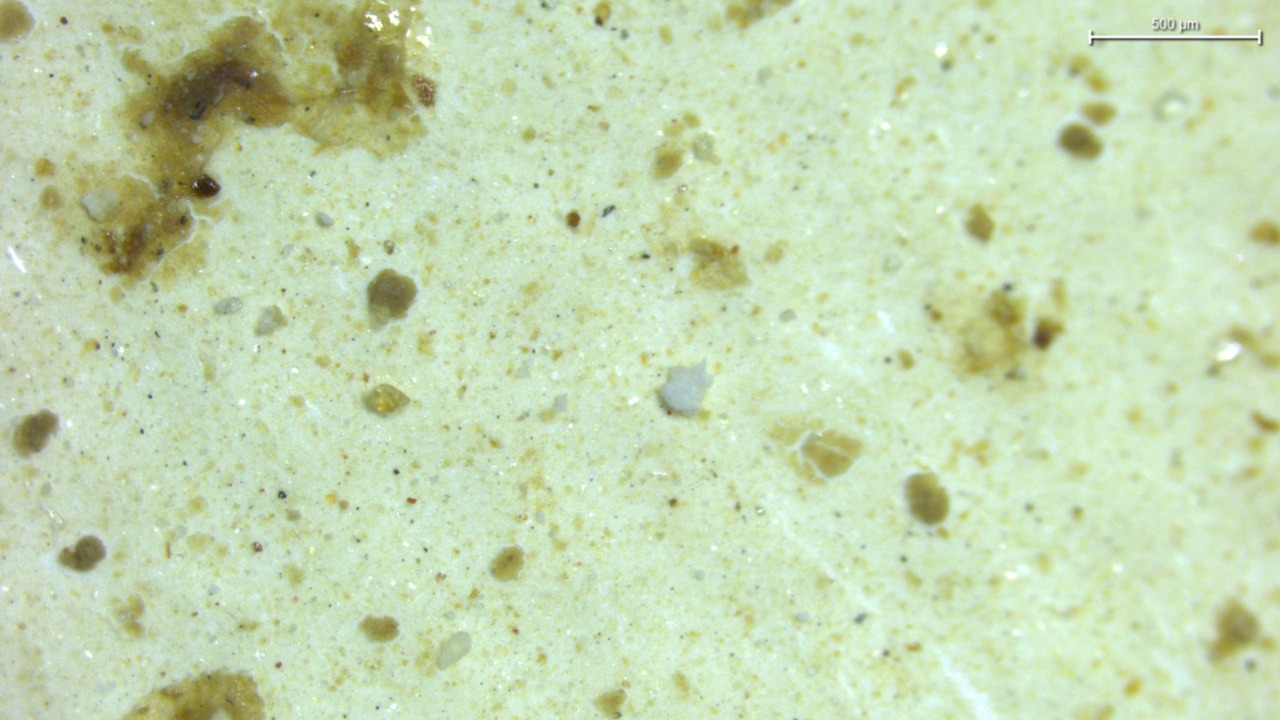microplastic_fragment: (658, 364, 711, 416), (437, 631, 471, 669), (82, 187, 119, 221), (255, 305, 286, 335), (215, 297, 243, 314)
